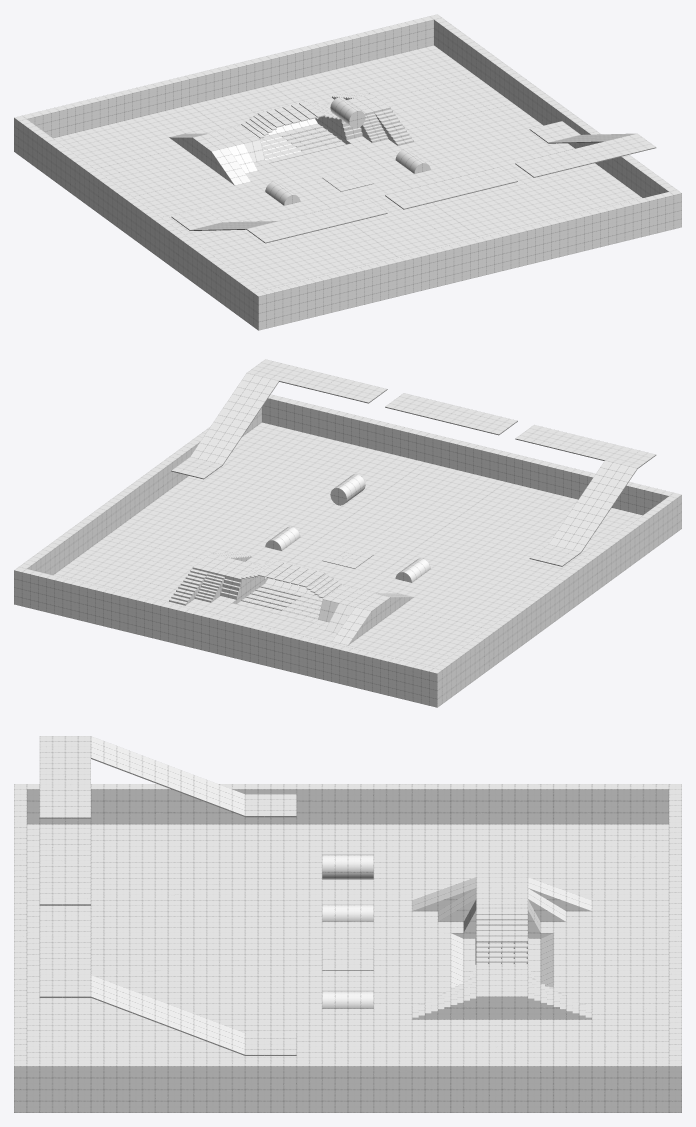
The model's file is testMap.glb.
The picture shows the model from 3 angles, top to bottom: view 1: azimuth 30°, elevation 25°; view 2: azimuth 150°, elevation 25°; view 3: azimuth 270°, elevation 25°; orthographic projection. The views are drawn at different scales.
Parts seen in each view (by area): view 1: Floor.002, SlopeStair.002, Slide, Slide.002, 4XBar, Floor.003, 4X4Platform; view 2: Floor.002, Slide.002, SlopeStair.002, Slide, 4XBar, Floor.003, 4X4Platform; view 3: Floor.002, SlopeStair.002, Slide, Slide.002, 4XBar, 4X4Platform.
Part boxes in pixels (<box>): Floor.002: <box>14,14,681,330</box>; SlopeStair.002: <box>169,92,413,185</box>; Slide: <box>246,133,656,243</box>; Slide.002: <box>171,121,635,230</box>; 4XBar: <box>265,97,430,205</box>; Floor.003: <box>260,126,342,159</box>; 4X4Platform: <box>322,169,373,191</box>; Floor.002: <box>14,394,681,707</box>; Slide.002: <box>171,373,637,566</box>; SlopeStair.002: <box>169,552,413,645</box>; Slide: <box>247,359,656,468</box>; 4XBar: <box>265,474,430,582</box>; Floor.003: <box>241,585,322,619</box>; 4X4Platform: <box>322,547,373,568</box>; Floor.002: <box>14,784,681,1112</box>; SlopeStair.002: <box>412,877,591,1019</box>; Slide: <box>39,736,90,997</box>; Slide.002: <box>91,736,296,1055</box>; 4XBar: <box>322,854,373,1008</box>; 4X4Platform: <box>322,948,373,970</box>.
Size of the model in its own units: 52 by 18 by 52.
1 material, 1 textured.
